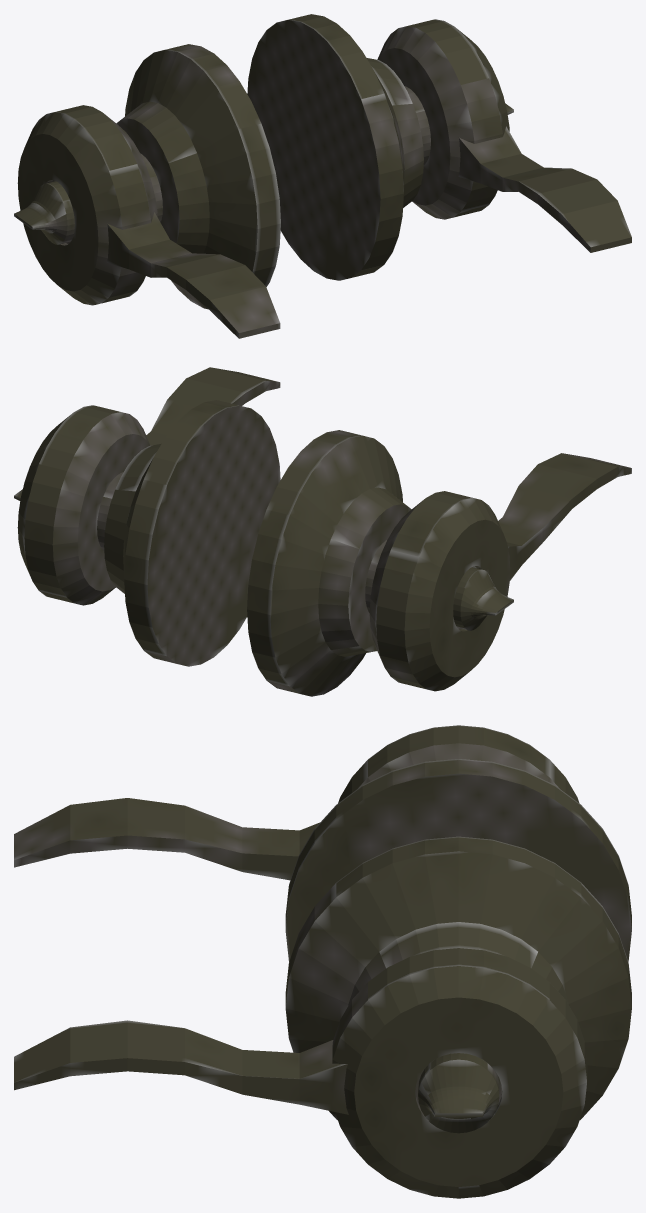
The model's file is Handle.fbx.
The picture shows the model from 3 angles, top to bottom: view 1: azimuth 30°, elevation 25°; view 2: azimuth 150°, elevation 25°; view 3: azimuth 270°, elevation 25°; orthographic projection. The views are drawn at different scales.
Parts seen in each view (by area): view 1: Handle; view 2: Handle; view 3: Handle.
Part boxes in pixels (x1,y1,x2,y2): Handle: (14,14,631,338); Handle: (14,367,631,696); Handle: (14,725,631,1198).
Size of the model in its own units: 38.13 by 18.32 by 32.69.
